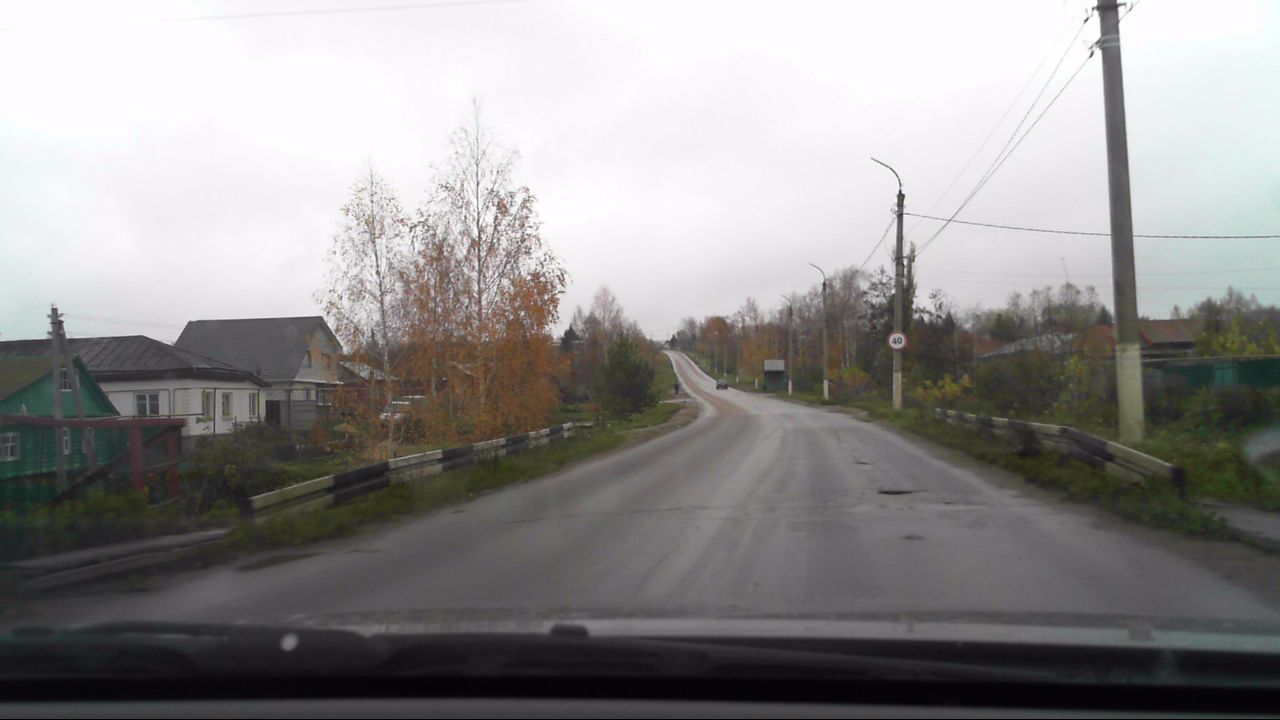speed_warning_40: (886, 331, 906, 351)
